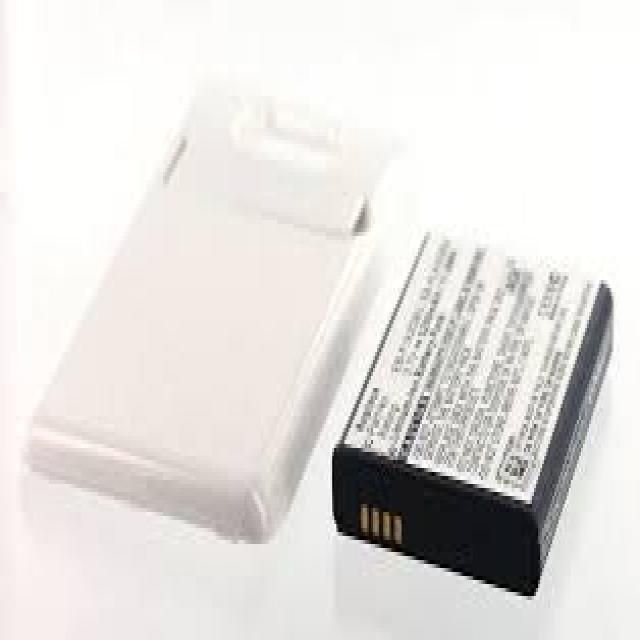non-organic waste: (329, 228, 618, 598)
